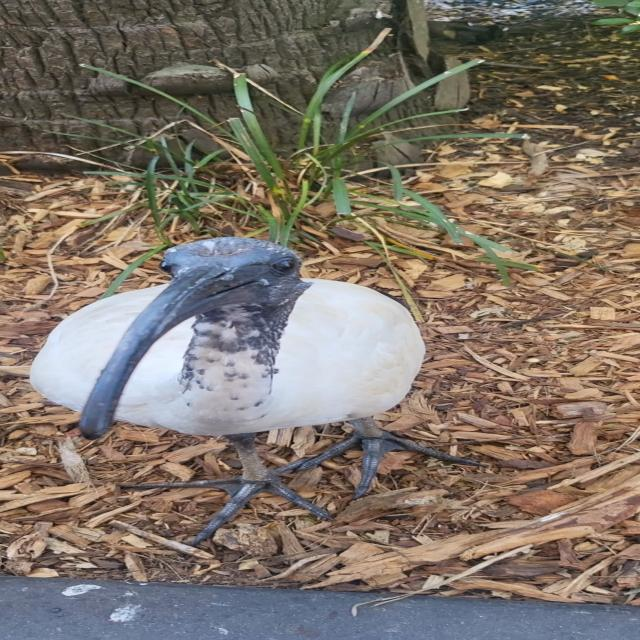Birds-Ibis: (18, 234, 494, 549)
